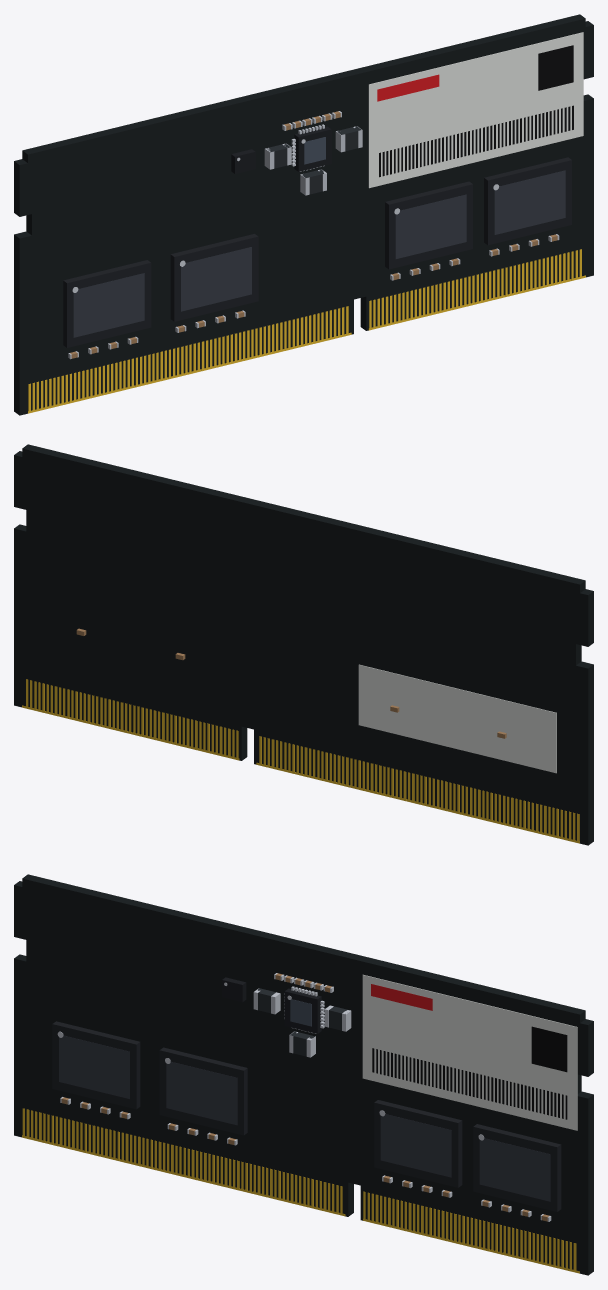
Rendered from DDR5_8GB_SODIMM_LAPTOP.obj.
3 renders of one model, top to bottom at view 1: azimuth 30°, elevation 25°; view 2: azimuth 150°, elevation 25°; view 3: azimuth 330°, elevation 25°, orthographic.
Bounding box in the file's own units: 69.6 × 30 × 2.77.
